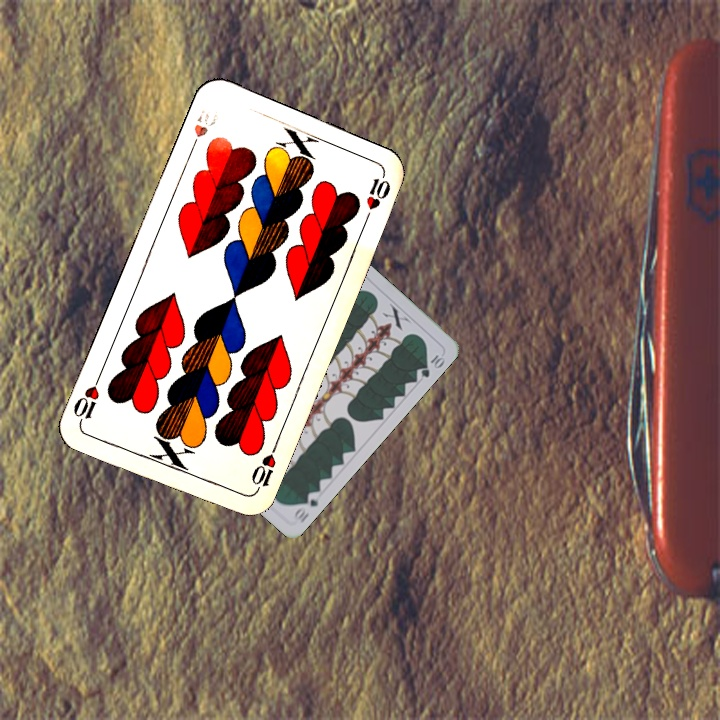G10: (289, 487, 323, 526)
H10: (247, 440, 280, 496), (185, 106, 220, 156)
